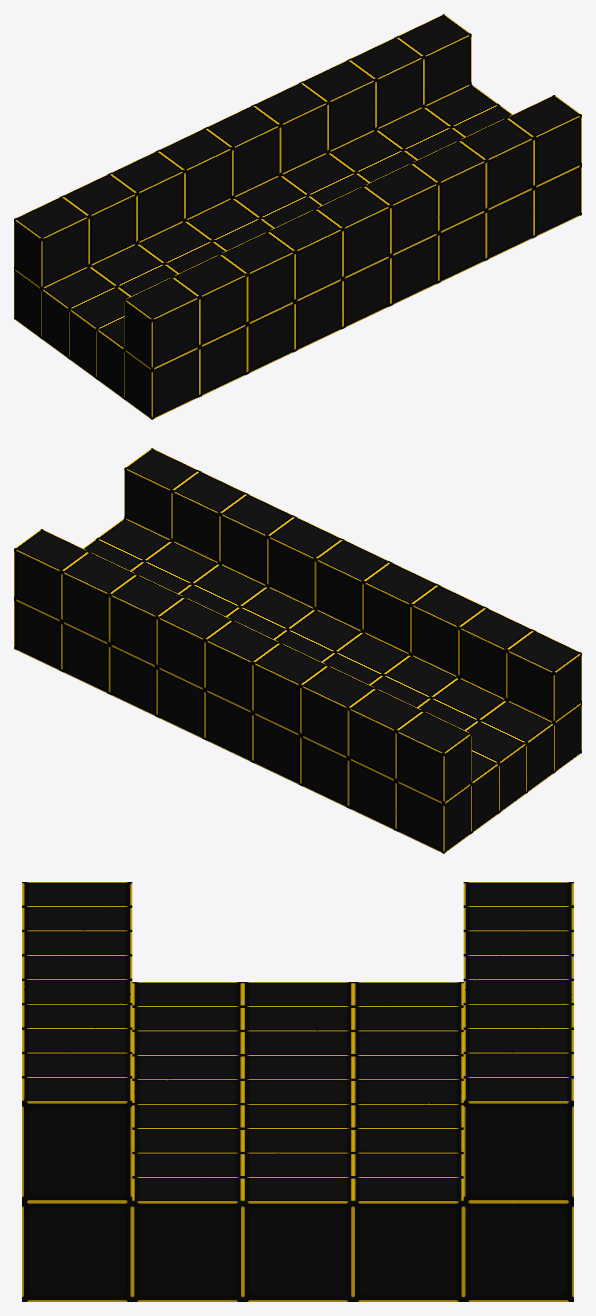
The model's file is balls_bridge_mp.dae.
3 renders of one model, top to bottom at view 1: azimuth 30°, elevation 25°; view 2: azimuth 150°, elevation 25°; view 3: azimuth 270°, elevation 25°, orthographic. The views are drawn at different scales.
Parts seen in each view (by area): view 1: balls_bridge_mp; view 2: balls_bridge_mp; view 3: balls_bridge_mp.
Part boxes in pixels (x1,y1,x2,y2): balls_bridge_mp: (14,14,581,419); balls_bridge_mp: (14,448,581,853); balls_bridge_mp: (22,882,573,1301).
Size of the model in its own units: 18 by 10 by 8.
Materials: 1 (1 with a texture image).
